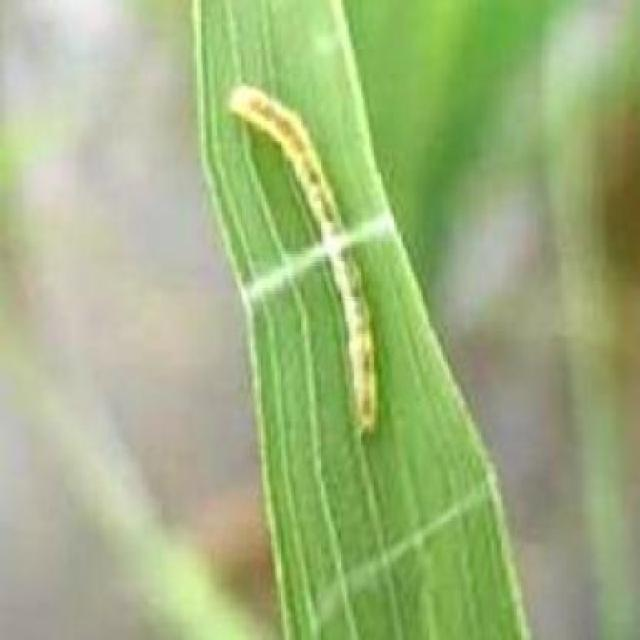leaf-folder: (215, 59, 427, 464)
